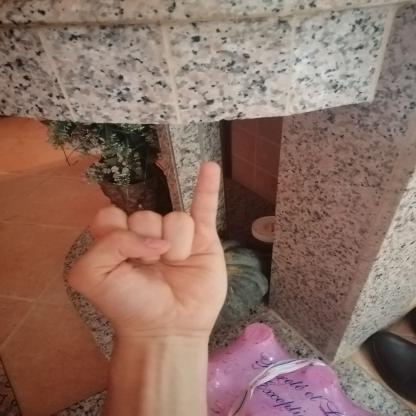MEEM: (54, 152, 245, 348)
